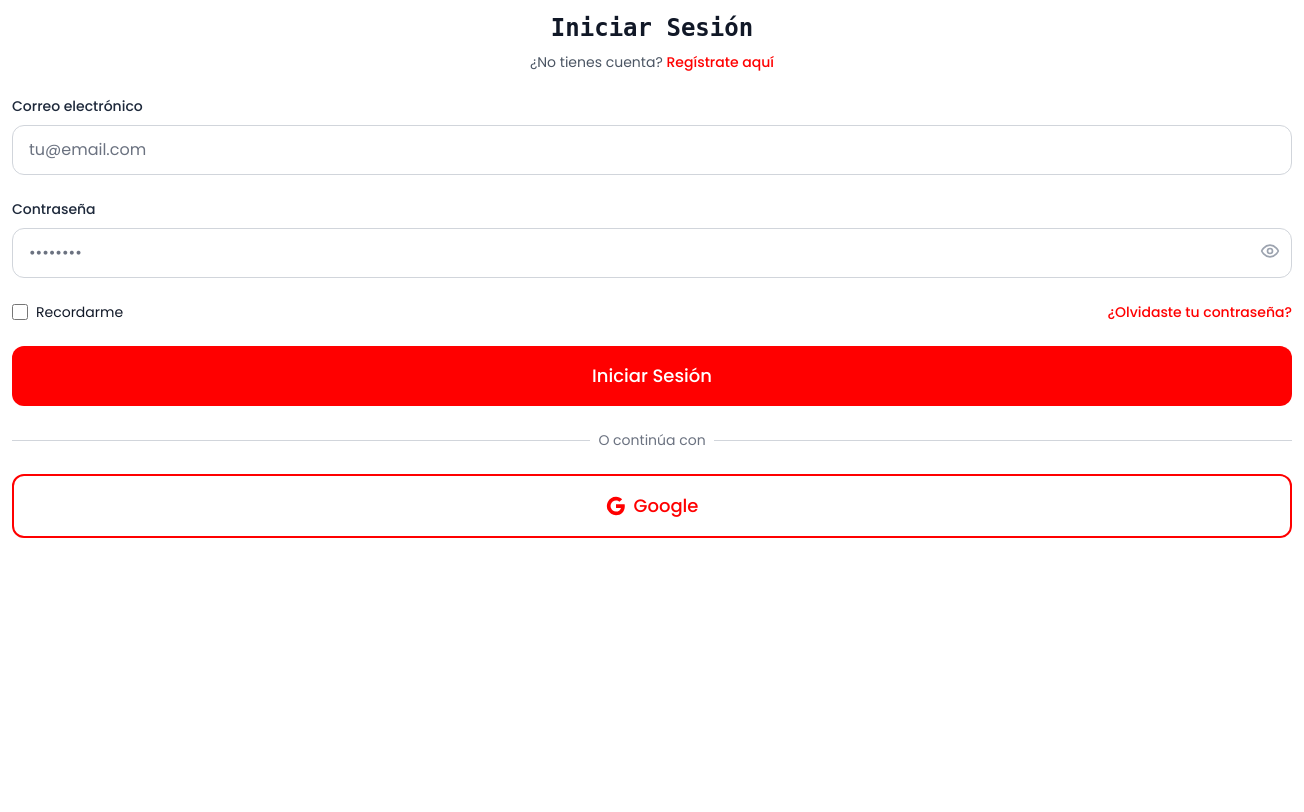
it: LoginPage › validates email field
Click the button "Iniciar Sesión" at (652, 376), box [12,346,1292,406]
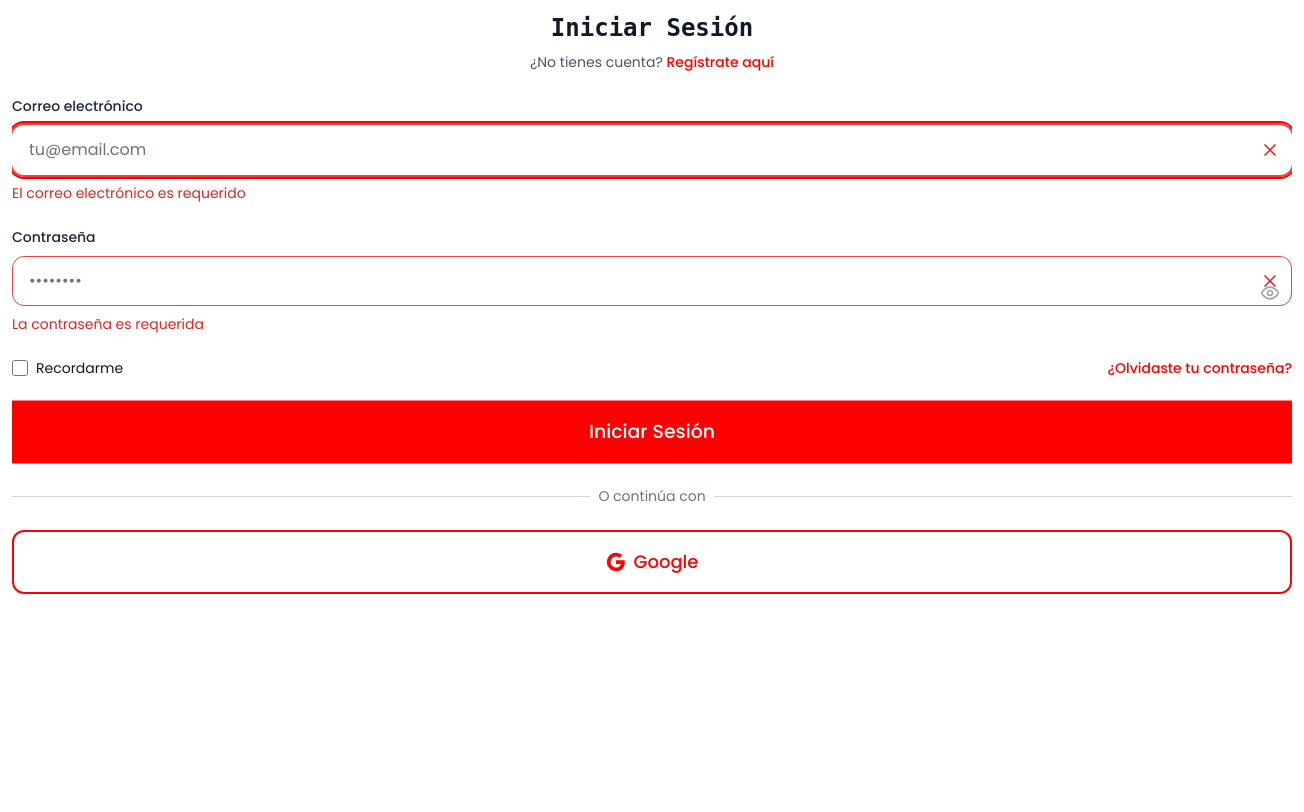
Check: the text "El correo electrónico es requerido" is shown, box [12,183,246,203]
